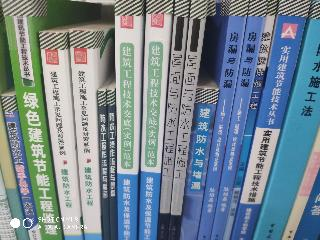book-spine: (224, 0, 310, 240), (236, 0, 320, 240), (205, 0, 268, 240), (2, 0, 61, 240), (222, 0, 277, 240), (194, 0, 248, 240), (131, 0, 173, 240), (165, 0, 207, 240), (40, 31, 82, 240), (153, 0, 189, 240), (111, 1, 142, 239), (69, 29, 101, 240), (177, 86, 219, 240), (1, 93, 41, 240), (98, 90, 110, 240), (108, 91, 117, 239)
